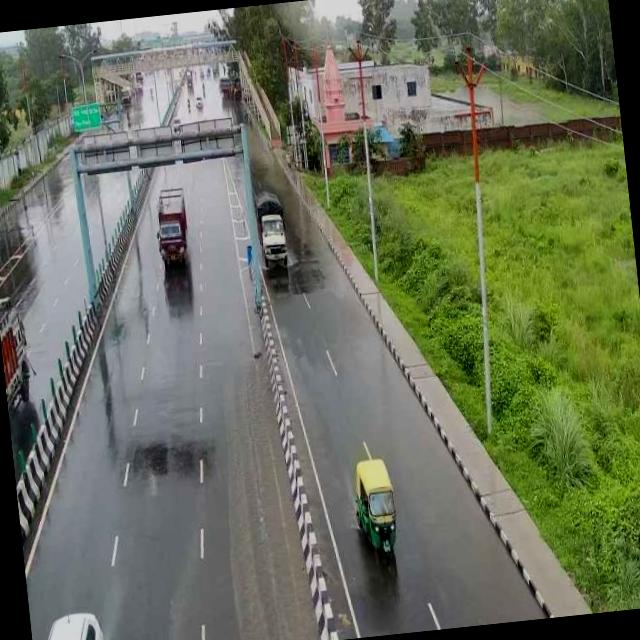car: (29, 602, 113, 640)
